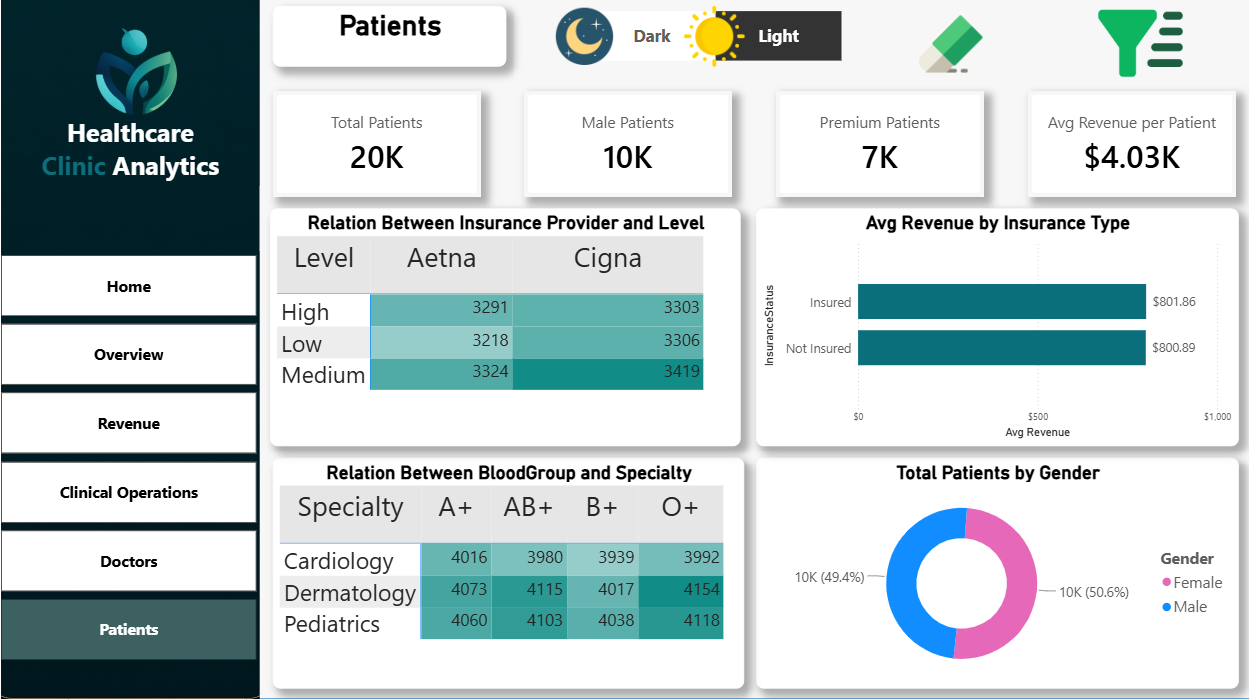

The page's visual inventory and layout, read from the dashboard file:
{"tool":"powerbi","page":{"name":"Patients","canvas":[1600,900],"ordinal":5},"visuals":[{"type":"shape","box":[0,0,1600.2,900],"z":0},{"type":"image","box":[0,0,331.2,900],"z":1000},{"type":"cardVisual","fields":{"Data":["DimMeasure.Total Patients"]},"box":[347.4,120.6,266.4,136.8],"z":2000},{"type":"cardVisual","fields":{"Data":["DimMeasure.Male Patients"]},"box":[669.6,120.6,266.4,136.8],"z":3000},{"type":"cardVisual","fields":{"Data":["DimMeasure.Premium Patients"]},"box":[991.8,120.6,266.4,136.8],"z":4000},{"type":"cardVisual","fields":{"Data":["DimMeasure.Avg Revenue per Patient"]},"box":[1314,120.6,266.4,136.8],"z":5000},{"type":"slicer","fields":{"Values":["ColorTheme.Mode"]},"box":[727.2,12.6,372.6,77.4],"z":6000},{"type":"donutChart","fields":{"Category":["DimPatient.Gender"],"Y":["DimMeasure.Total Patients"]},"box":[966.6,590.4,617.4,295.2],"z":7000},{"type":"pivotTable","title":"Relation Between BloodGroup and Specialty","fields":{"Columns":["DimPatient.BloodGroup"],"Rows":["DimDoctor.Specialty"],"Values":["DimMeasure.Total Patients"]},"box":[347.4,590.4,603,295.2],"z":8000},{"type":"textbox","title":"Patients","box":[347.4,12.6,298.8,77.4],"z":9000},{"type":"pageNavigator","box":[0,331.2,327.6,518.4],"z":10000},{"type":"image","box":[693,14.4,106.2,73.8],"z":11000},{"type":"image","box":[868.8,13,89.3,78.1],"z":12000},{"type":"clusteredBarChart","title":"Avg Revenue by Insurance Type","fields":{"Category":["DimPatient.InsuranceStatus"],"Y":["DimMeasure.Avg Revenue"]},"box":[966.6,271.8,617.4,304.2],"z":13000},{"type":"image","box":[1312.7,0,287.3,121.1],"z":21000},{"type":"image","box":[1118.2,20.2,195,80.7],"z":23000},{"type":"pivotTable","title":"Relation Between Insurance Provider and Level","fields":{"Columns":["DimPatient.InsuranceProvider"],"Rows":["DimPatient.CoverageLevel"],"Values":["DimMeasure.Total Patients"]},"box":[344.8,271.8,602.1,304.7],"z":24000},{"type":"textbox","box":[0,147.6,331.2,171],"z":25000},{"type":"image","box":[10,10,327.6,189],"z":26000}]}

Visuals, with their boxes in screenshot pixels (x1, y1, x2, y2), scaled from the page's 1600x900 canvas onto the 1249x700 screenshot:
shape: {"left": 0, "top": 0, "right": 1248, "bottom": 699}
image: {"left": 0, "top": 0, "right": 259, "bottom": 699}
cardVisual - DimMeasure.Total Patients: {"left": 271, "top": 94, "right": 479, "bottom": 200}
cardVisual - DimMeasure.Male Patients: {"left": 523, "top": 94, "right": 731, "bottom": 200}
cardVisual - DimMeasure.Premium Patients: {"left": 774, "top": 94, "right": 982, "bottom": 200}
cardVisual - DimMeasure.Avg Revenue per Patient: {"left": 1026, "top": 94, "right": 1234, "bottom": 200}
slicer - ColorTheme.Mode: {"left": 568, "top": 10, "right": 859, "bottom": 70}
donutChart - DimPatient.Gender x DimMeasure.Total Patients: {"left": 755, "top": 459, "right": 1237, "bottom": 689}
"Relation Between BloodGroup and Specialty" pivotTable: {"left": 271, "top": 459, "right": 742, "bottom": 689}
"Patients" textbox: {"left": 271, "top": 10, "right": 504, "bottom": 70}
pageNavigator: {"left": 0, "top": 258, "right": 256, "bottom": 661}
image: {"left": 541, "top": 11, "right": 624, "bottom": 69}
image: {"left": 678, "top": 10, "right": 748, "bottom": 71}
"Avg Revenue by Insurance Type" clusteredBarChart: {"left": 755, "top": 211, "right": 1237, "bottom": 448}
image: {"left": 1025, "top": 0, "right": 1248, "bottom": 94}
image: {"left": 873, "top": 16, "right": 1025, "bottom": 78}
"Relation Between Insurance Provider and Level" pivotTable: {"left": 269, "top": 211, "right": 739, "bottom": 448}
textbox: {"left": 0, "top": 115, "right": 259, "bottom": 248}
image: {"left": 8, "top": 8, "right": 264, "bottom": 155}
